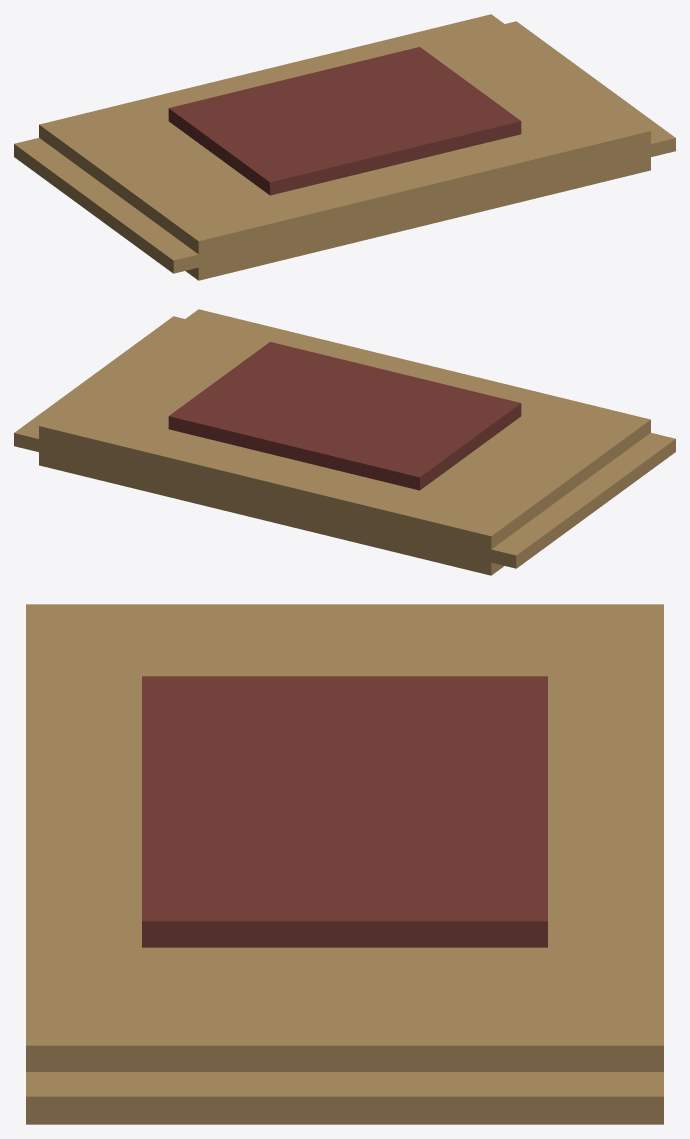
File: mre_bag_jam.glb
3 renders of one model, top to bottom at view 1: azimuth 30°, elevation 25°; view 2: azimuth 150°, elevation 25°; view 3: azimuth 270°, elevation 25°, orthographic. The views are drawn at different scales.
Visible parts, largest first — view 1: mre_bag_jam:compound; view 2: mre_bag_jam:compound; view 3: mre_bag_jam:compound.
Part boxes in pixels (left/top/right/bottom): mre_bag_jam:compound: left=14, top=14, right=675, bottom=280; mre_bag_jam:compound: left=14, top=309, right=675, bottom=575; mre_bag_jam:compound: left=26, top=604, right=663, bottom=1124.
Size of the model in its own units: 0.08 by 0.008 by 0.044.
